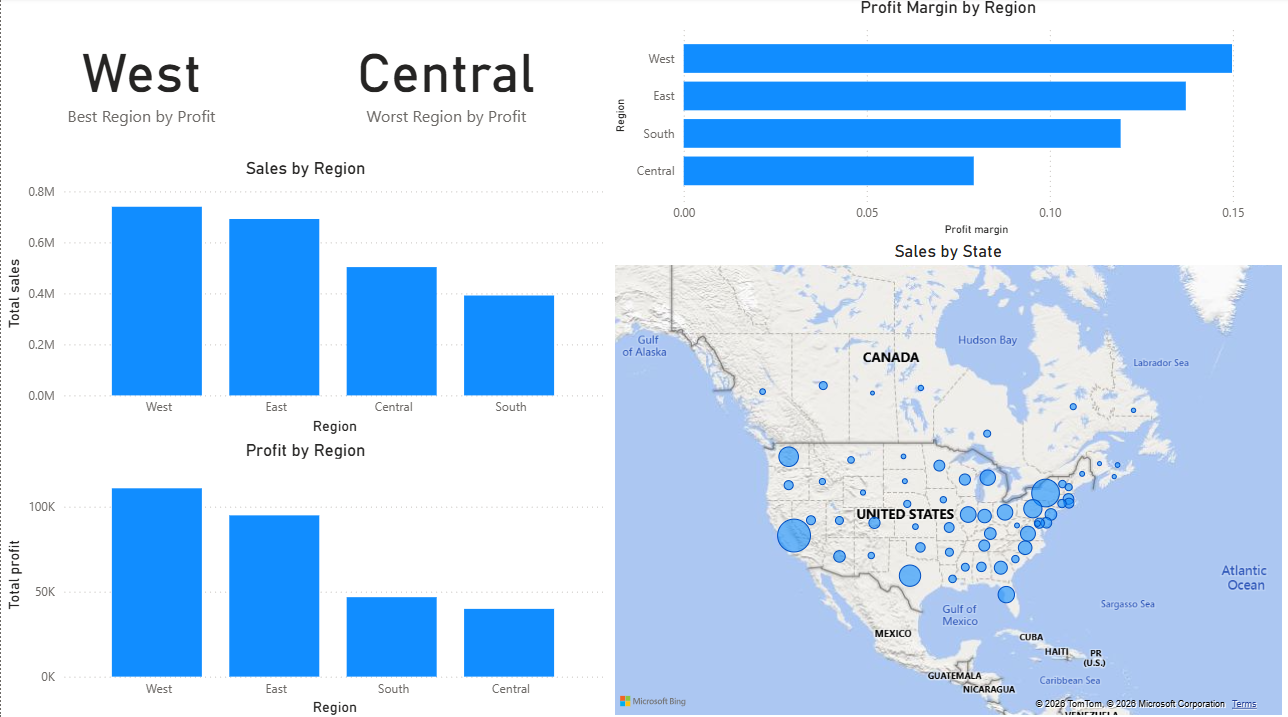

The page's visual inventory and layout, read from the dashboard file:
{"tool":"powerbi","page":{"name":"Regional & Geographic Analysis","canvas":[1280,720],"ordinal":4},"visuals":[{"type":"clusteredColumnChart","title":"Sales by Region","fields":{"Category":["samplesuperstore orgnal.Region"],"Y":["samplesuperstore orgnal.Total sales"]},"box":[0,160,606.2,280],"z":0},{"type":"clusteredColumnChart","title":"Profit by Region","fields":{"Category":["samplesuperstore orgnal.Region"],"Y":["samplesuperstore orgnal.Total profit"]},"box":[0,440,606.2,280],"z":1000},{"type":"barChart","title":"Profit Margin by Region","fields":{"Category":["samplesuperstore orgnal.Region"],"Y":["samplesuperstore orgnal.Profit margin"]},"box":[606.2,0,673.8,242.5],"z":2000},{"type":"map","title":"Sales by State","fields":{"Category":["samplesuperstore orgnal.State/Province"],"Size":["samplesuperstore orgnal.Total sales"]},"box":[606.2,242.5,673.8,477.5],"z":4000},{"type":"card","fields":{"Values":["samplesuperstore orgnal.Best Region by Profit"]},"box":[0,0,280,160],"z":5000},{"type":"card","fields":{"Values":["samplesuperstore orgnal.Worst Region by Profit"]},"box":[303.8,0,280,160],"z":6000}]}

Visuals, with their boxes in screenshot pixels (x1, y1, x2, y2), scaled from the page's 1280x720 canvas onto the 1288x717 screenshot:
"Sales by Region" clusteredColumnChart: left=0, top=159, right=610, bottom=438
"Profit by Region" clusteredColumnChart: left=0, top=438, right=610, bottom=716
"Profit Margin by Region" barChart: left=610, top=0, right=1287, bottom=241
"Sales by State" map: left=610, top=241, right=1287, bottom=716
card - samplesuperstore orgnal.Best Region by Profit: left=0, top=0, right=282, bottom=159
card - samplesuperstore orgnal.Worst Region by Profit: left=306, top=0, right=587, bottom=159
